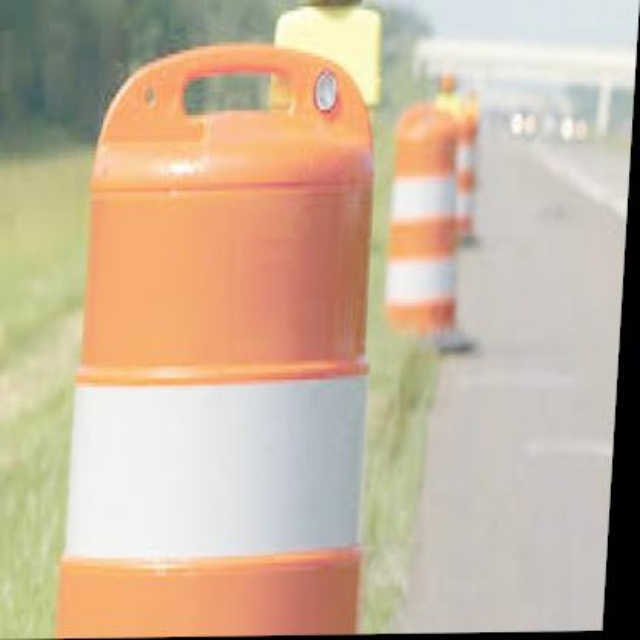obstacle: (60, 48, 397, 635), (384, 113, 481, 354)
